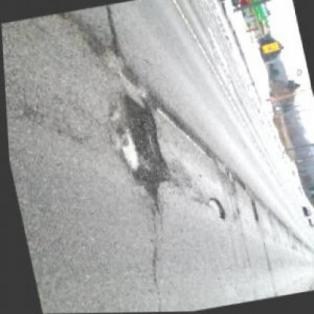Hueco: (106, 87, 173, 201), (202, 195, 226, 225), (246, 200, 257, 224)
